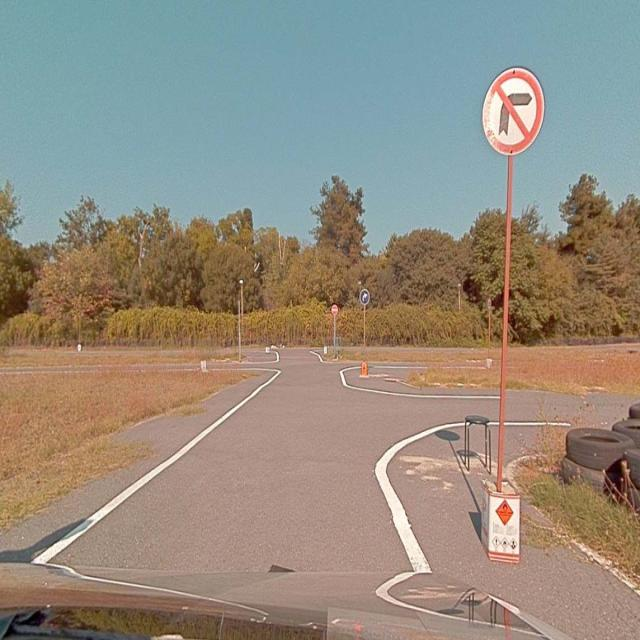girisyok: (332, 305, 338, 315)
sag: (360, 290, 370, 306)
sagadonulmez: (480, 66, 544, 156)
